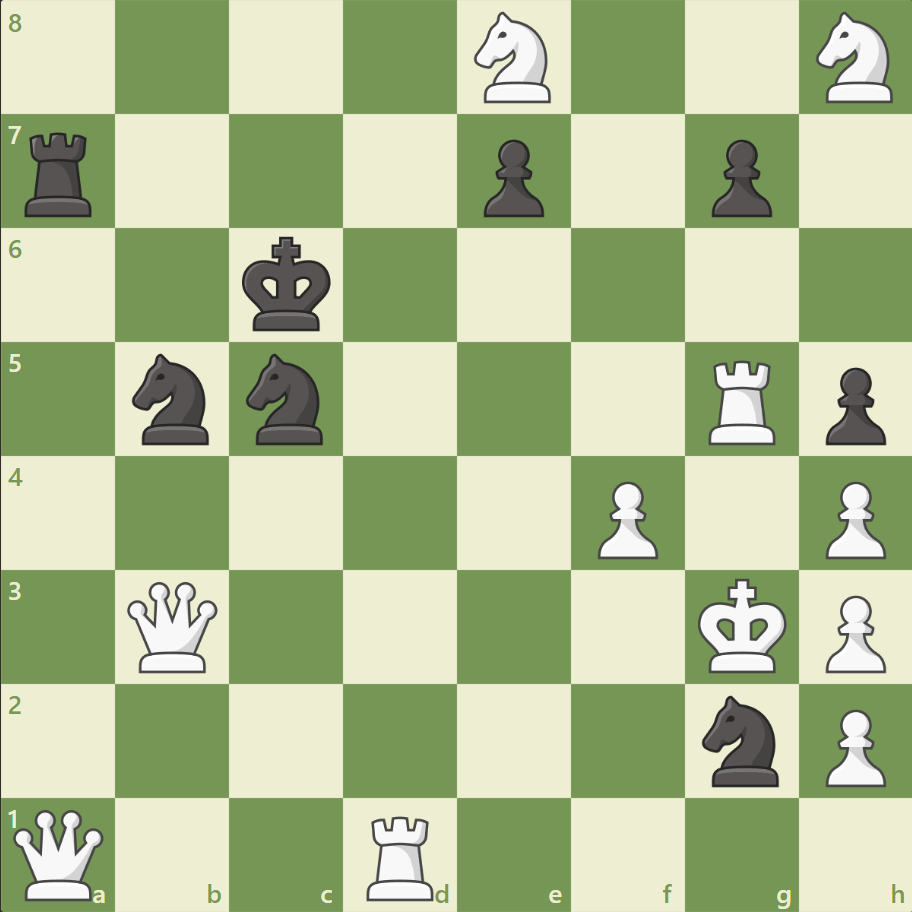K: (692, 571, 792, 679)
N: (465, 7, 562, 110), (806, 7, 903, 110)
P: (588, 473, 662, 564), (815, 473, 889, 564), (815, 586, 889, 677), (815, 700, 889, 791)
Q: (124, 576, 223, 676), (10, 804, 109, 903)
R: (700, 352, 783, 449), (360, 806, 442, 904)
k: (238, 231, 338, 339)
n: (124, 348, 222, 450), (692, 688, 789, 791), (238, 348, 335, 450)
p: (474, 132, 549, 223), (701, 132, 776, 223), (815, 359, 889, 450)
r: (19, 125, 102, 222)
